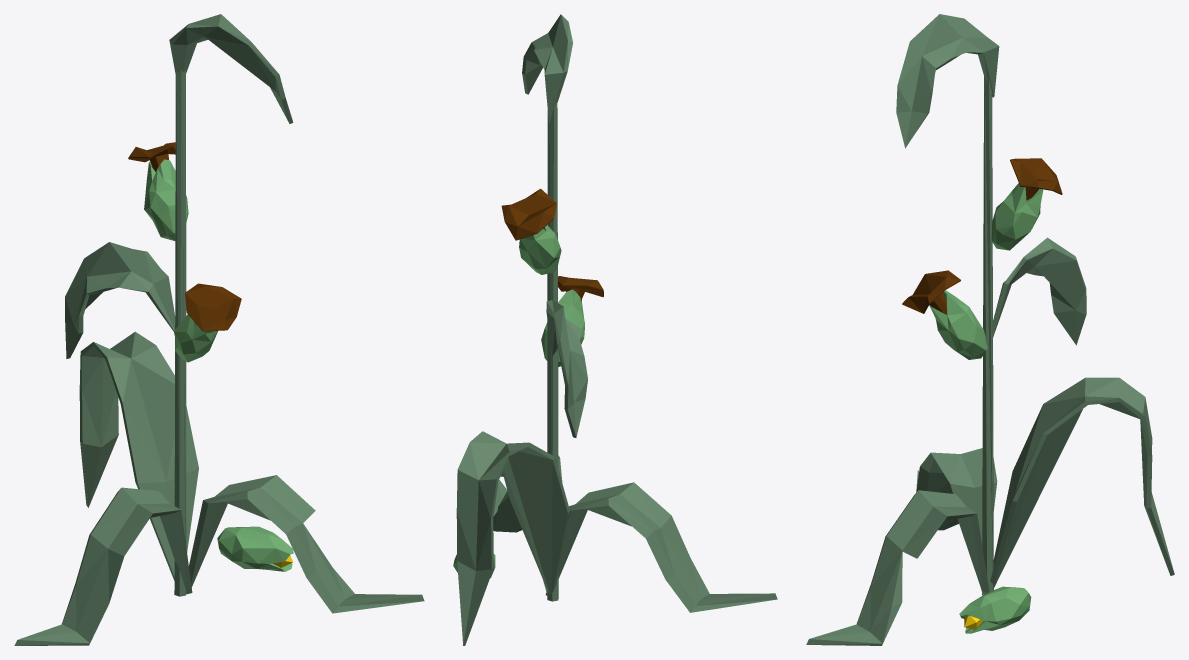
Rendered from corn2.glb.
The picture shows the model from 3 angles, left to right: view 1: azimuth 30°, elevation 25°; view 2: azimuth 150°, elevation 25°; view 3: azimuth 270°, elevation 25°; orthographic projection. The views are drawn at different scales.
Parts seen in each view (by area): view 1: corn2; view 2: corn2; view 3: corn2.
Boxes of the visible parts, left/top/right/bottom form: corn2: left=14, top=14, right=424, bottom=645; corn2: left=453, top=14, right=777, bottom=645; corn2: left=806, top=14, right=1174, bottom=645.
Size of the model in its own units: 0.8553 by 1.37 by 0.7805.
Materials: 1 (1 with a texture image).
